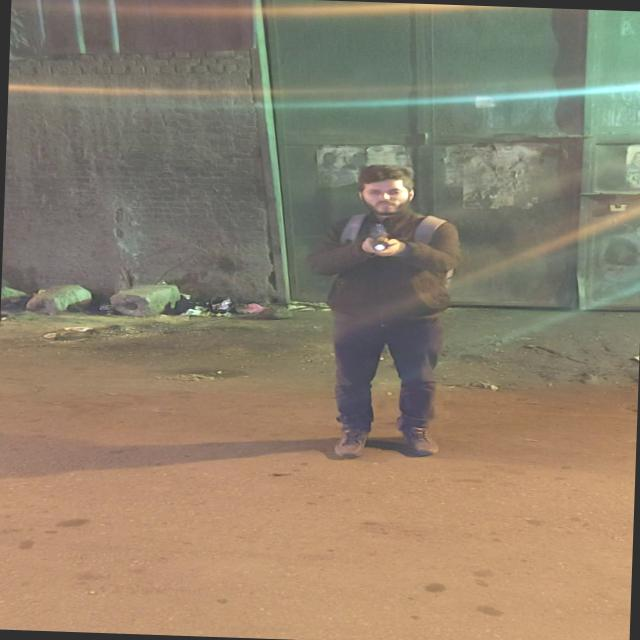long weapon: (344, 215, 414, 263)
